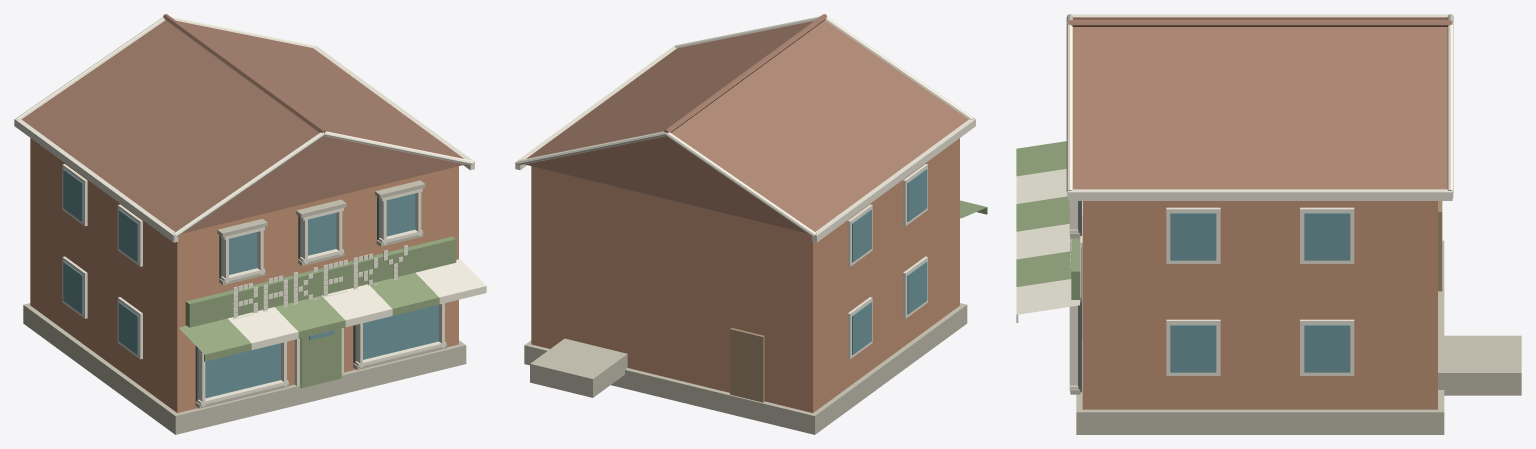
The model's file is shop-0.glb.
The picture shows the model from 3 angles, left to right: view 1: azimuth 30°, elevation 25°; view 2: azimuth 150°, elevation 25°; view 3: azimuth 270°, elevation 25°; orthographic projection. The views are drawn at different scales.
Bounding box in the file's own units: 10.06 × 8.67 × 12.09.
